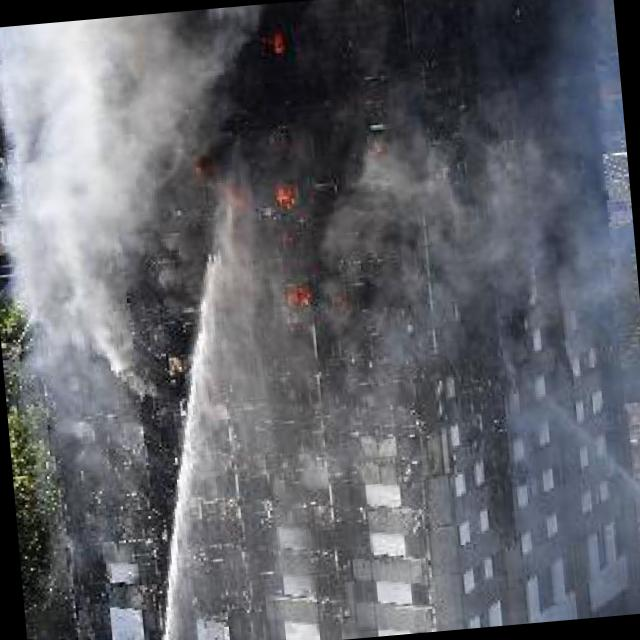fire: (259, 160, 304, 240), (251, 15, 313, 64)
smoke: (303, 110, 640, 381)
